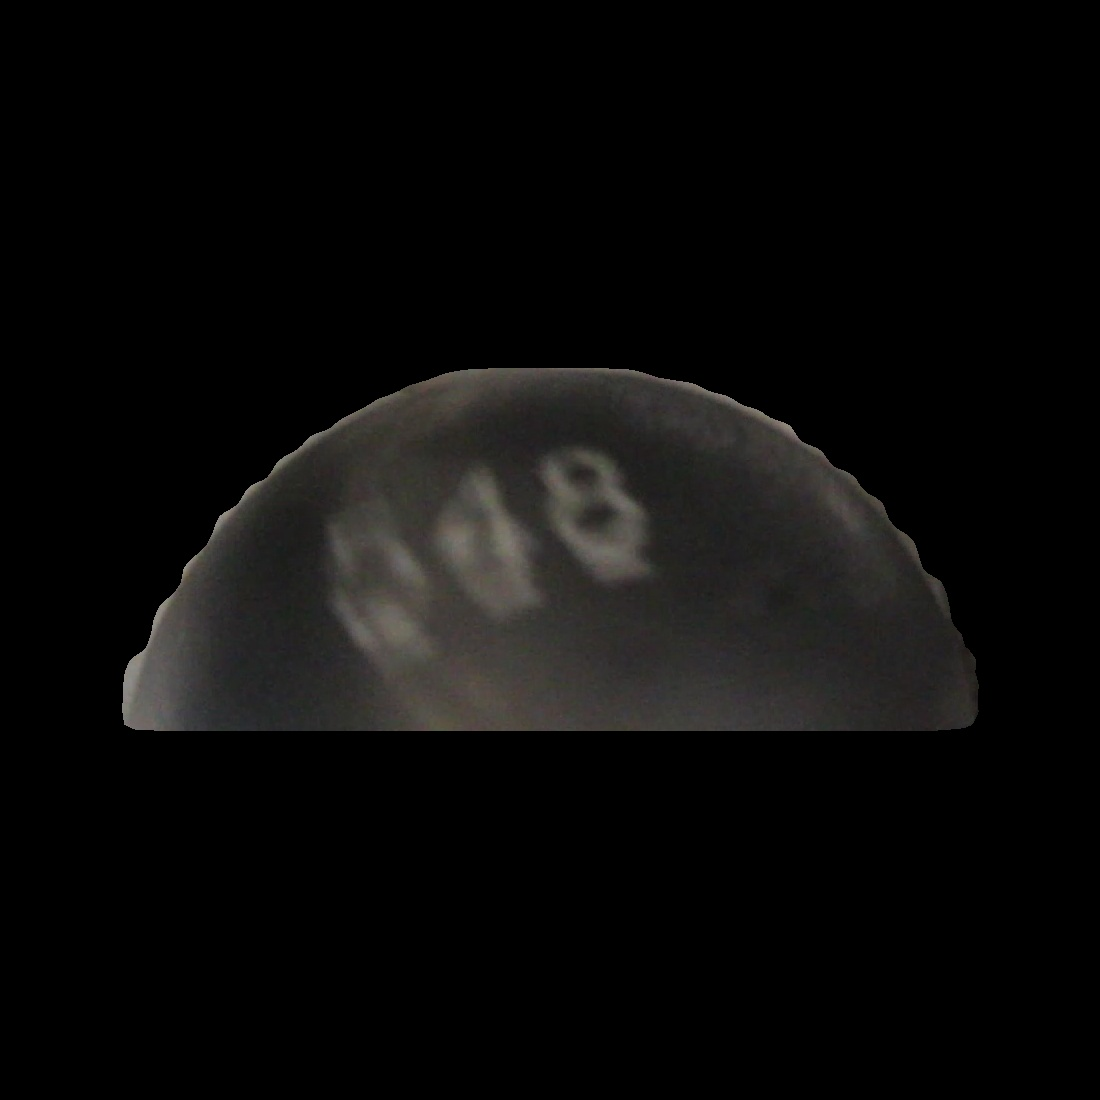digits: (322, 442, 662, 662)
